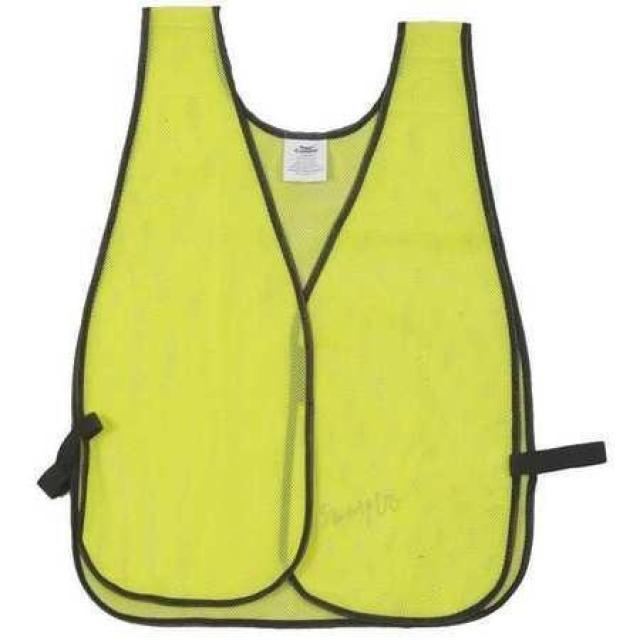Vest: (63, 1, 539, 628)
